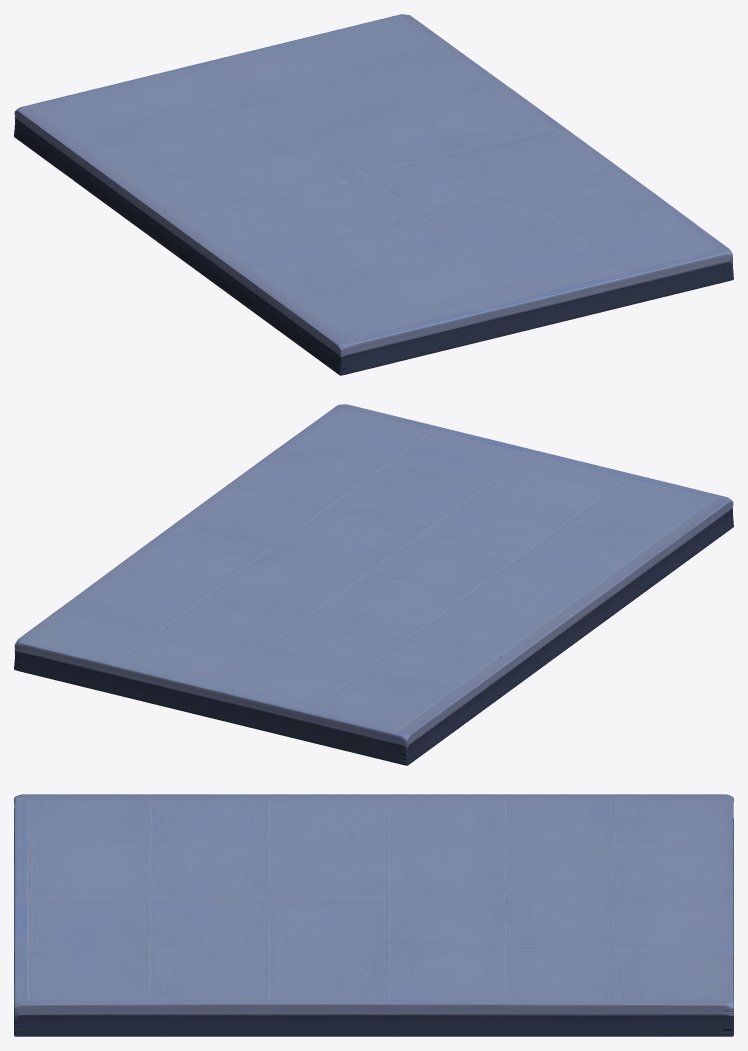
The model's file is office_ground.fbx.
3 views of the same model, one above another, from view 1: azimuth 30°, elevation 25°; view 2: azimuth 150°, elevation 25°; view 3: azimuth 270°, elevation 25° (orthographic). The views are drawn at different scales.
Parts seen in each view (by area): view 1: Mesh_0; view 2: Mesh_0; view 3: Mesh_0.
Boxes of the visible parts, x1,y1,x2,y2 form: Mesh_0: (14,14,733,375); Mesh_0: (14,404,733,765); Mesh_0: (14,794,733,1036).
Size of the model in its own units: 68.61 by 4.99 by 98.52.
1 material, 1 textured.
